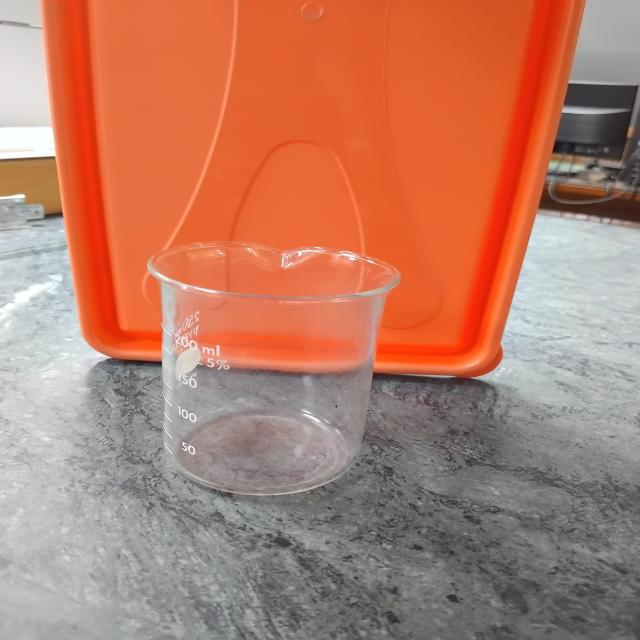Beaker: (107, 187, 437, 518)
